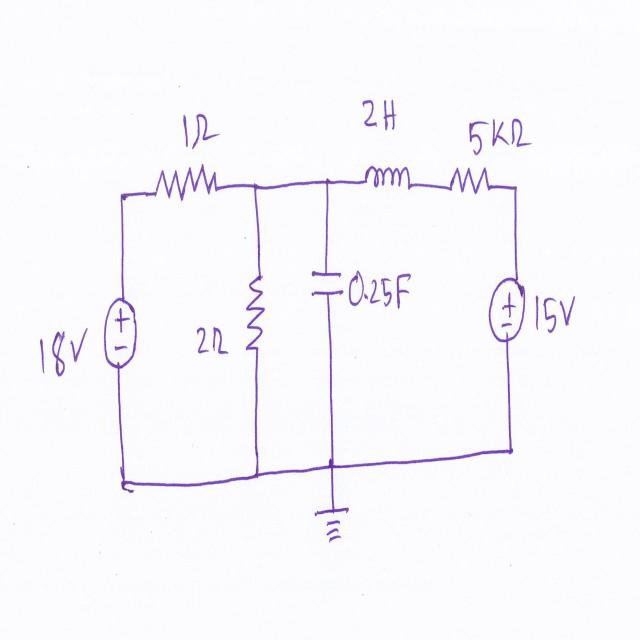capacitor: (303, 259, 346, 304)
ground: (312, 498, 353, 550)
inductor: (358, 160, 413, 203)
resistor: (146, 160, 219, 206), (446, 162, 494, 208), (242, 267, 265, 355)
voltage_source: (100, 287, 144, 375), (486, 271, 530, 350)
